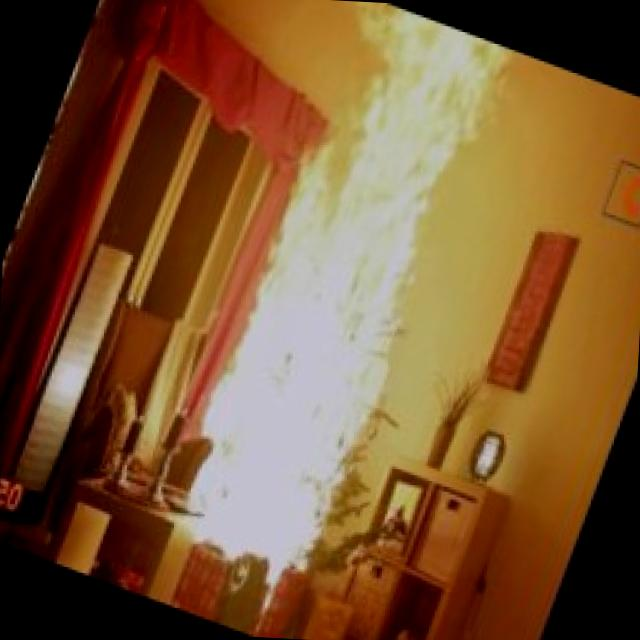fire: (113, 0, 550, 625)
